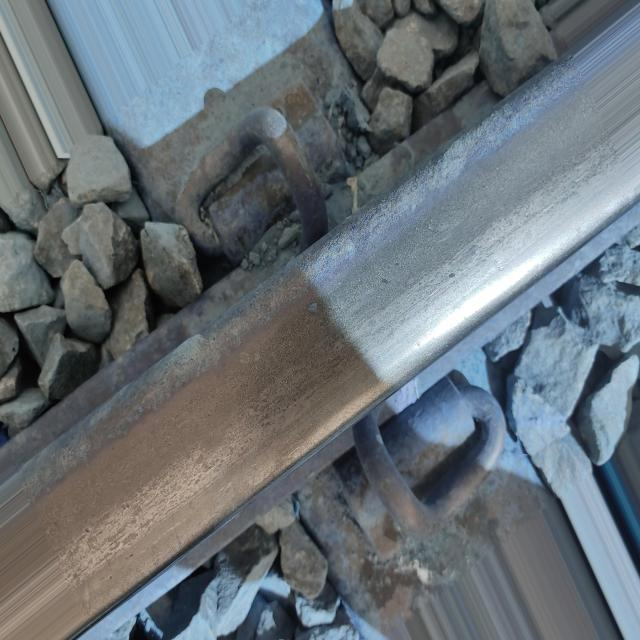broken_rail_medium: (238, 349, 262, 365), (307, 296, 321, 314), (380, 275, 392, 286), (445, 270, 457, 280)
